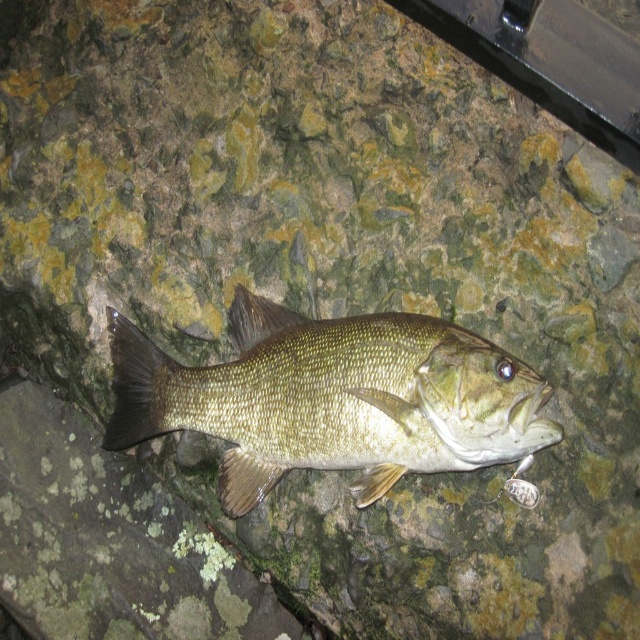Fish: (96, 280, 566, 519)
